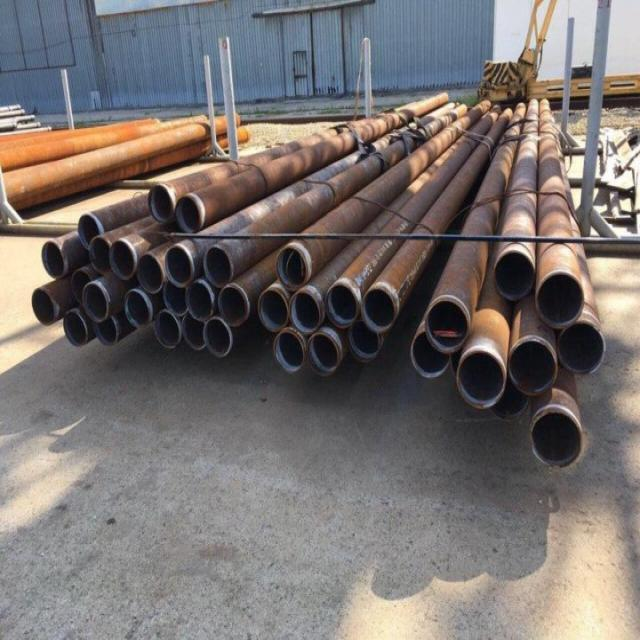pipe: (455, 344, 507, 410), (528, 408, 582, 471), (507, 332, 559, 396), (535, 268, 586, 329), (556, 319, 604, 375), (424, 296, 469, 352), (492, 245, 534, 302), (410, 325, 452, 379), (364, 280, 402, 334), (308, 331, 343, 377), (324, 279, 359, 325), (216, 282, 250, 329), (274, 328, 306, 376), (256, 288, 290, 333), (292, 286, 324, 333), (348, 321, 385, 361), (124, 286, 156, 329), (274, 244, 308, 284), (165, 243, 195, 287), (155, 305, 182, 352), (136, 250, 164, 295), (203, 243, 233, 284), (204, 318, 234, 358), (177, 191, 204, 235), (63, 303, 89, 348), (497, 384, 531, 418), (41, 238, 67, 282), (31, 286, 58, 328), (148, 184, 175, 225), (77, 211, 102, 254), (112, 235, 136, 279), (84, 282, 110, 321), (188, 280, 213, 320), (92, 318, 121, 348), (90, 235, 111, 275), (183, 315, 204, 352), (164, 281, 186, 315), (71, 268, 91, 305)
